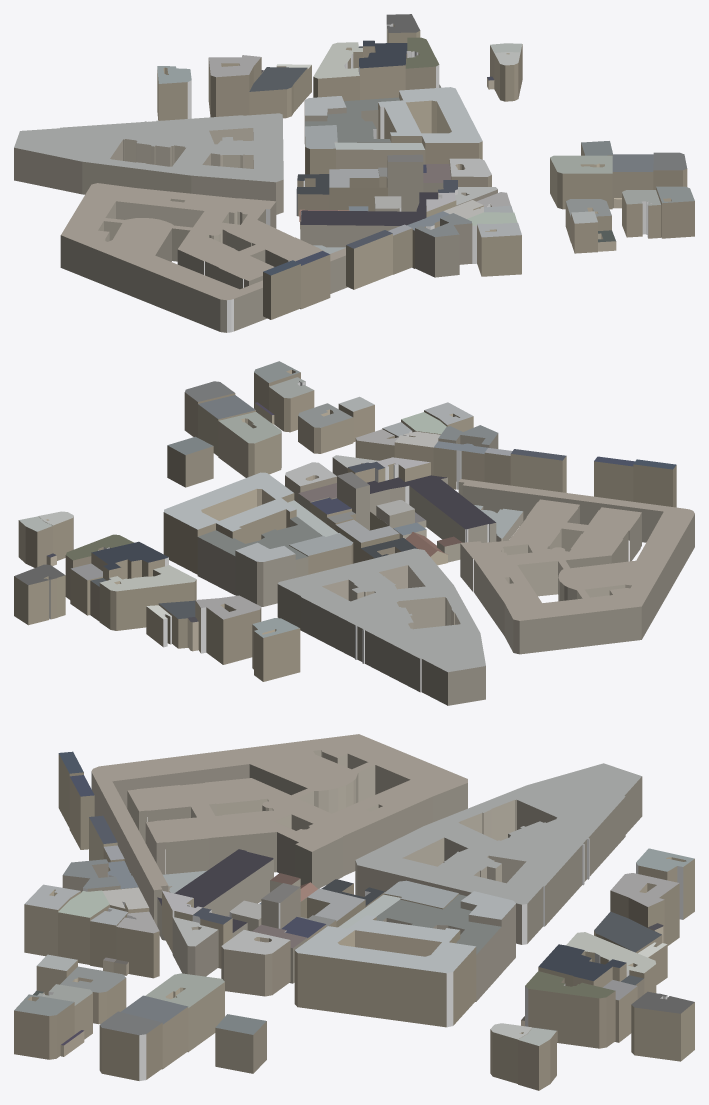
3 renders of one model, top to bottom at view 1: azimuth 30°, elevation 25°; view 2: azimuth 150°, elevation 25°; view 3: azimuth 270°, elevation 25°, orthographic. The views are drawn at different scales.
Visible parts, largest first — view 1: tuile; view 2: tuile; view 3: tuile.
Part boxes in pixels (x1,y1,x2,y2): tuile: (14,14,694,332); tuile: (14,361,694,705); tuile: (14,734,694,1090).
Bounding box in the file's own units: 302 × 33.14 × 271.
